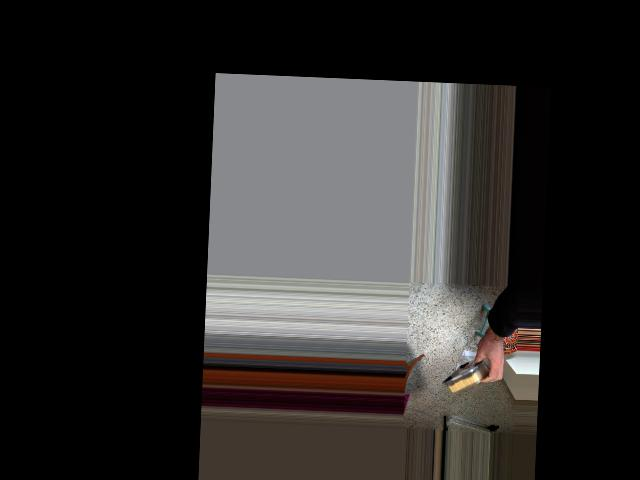cheese: (439, 345, 513, 405)
